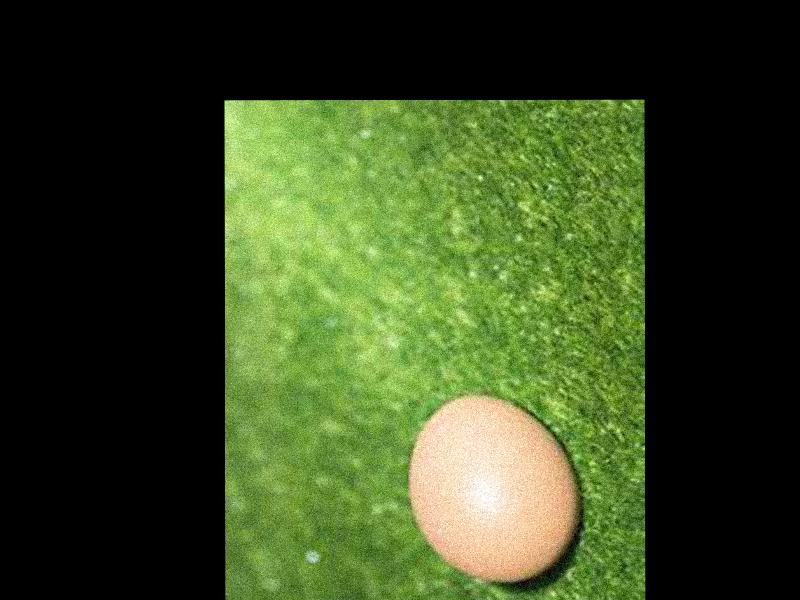Eggs: (411, 392, 581, 584)
